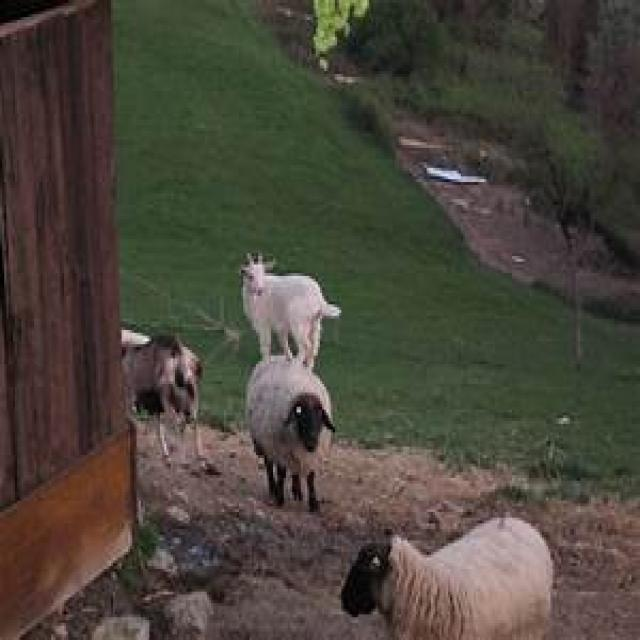goat: (339, 518, 557, 640), (245, 356, 335, 512), (241, 256, 341, 370), (128, 330, 205, 424)
